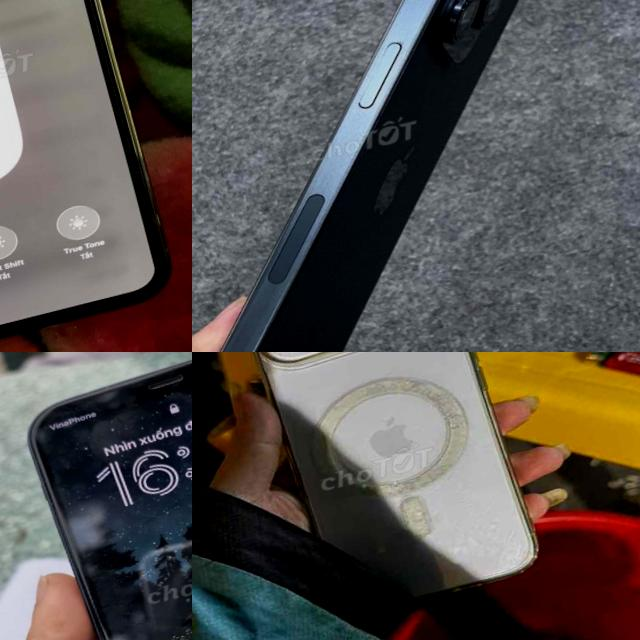scratch: (355, 142, 433, 213)
